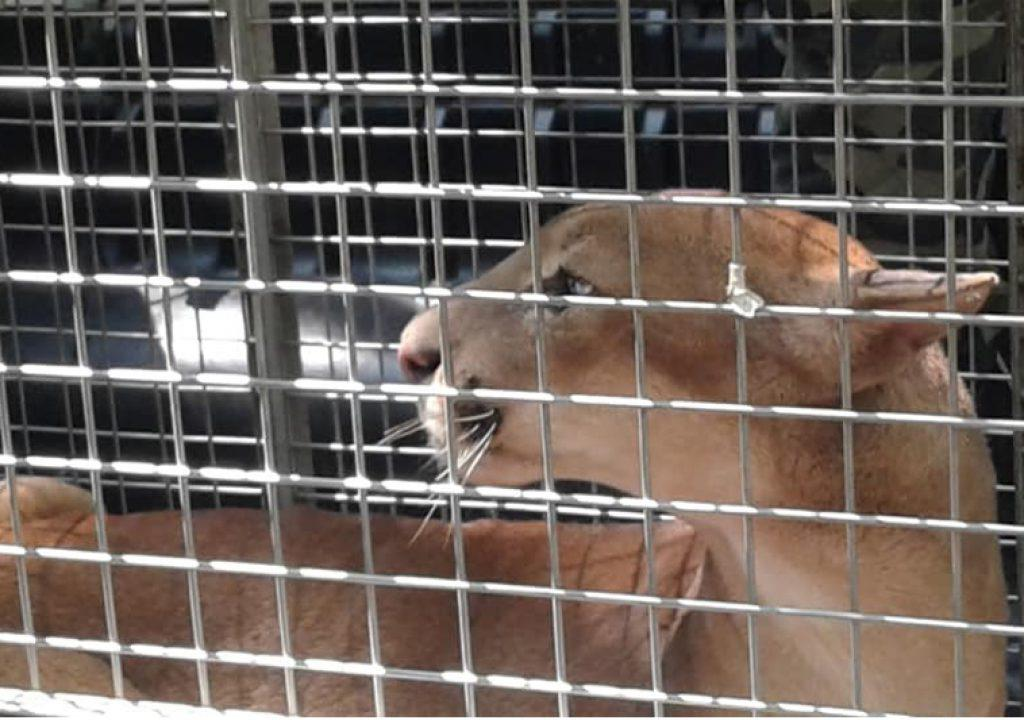OncaParda: (32, 183, 1007, 711)
